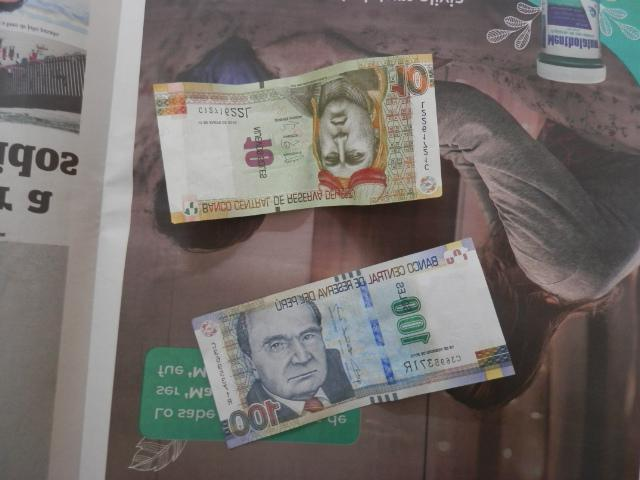B10: (154, 54, 442, 224)
B100: (193, 240, 516, 448)
